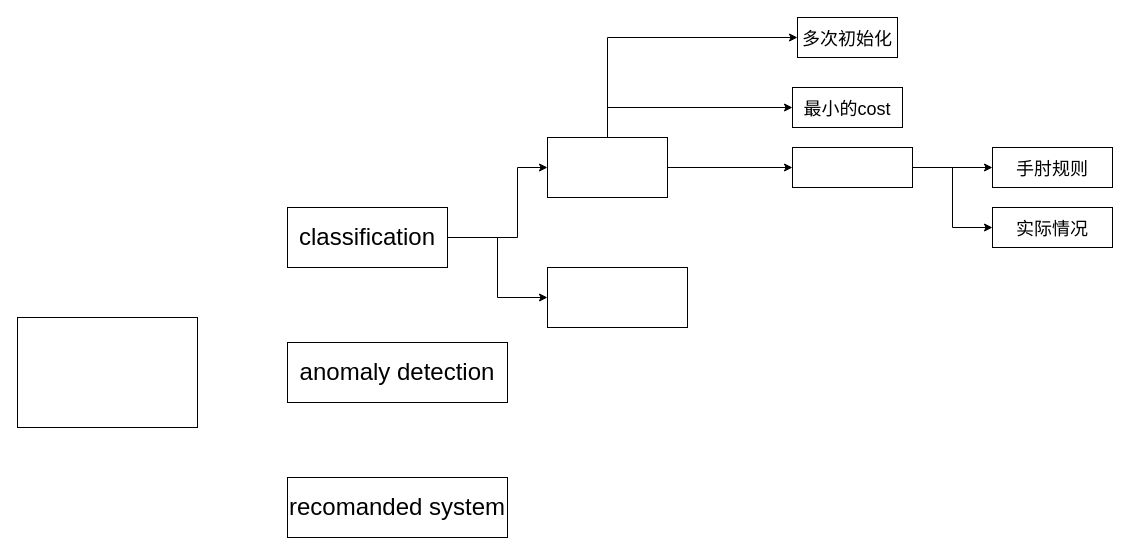
Some shapes in this 1130 by 555 pixel diagram are drawn without their labels. The shapes that lost their labels are listed below. From the top down, each one's centre as x and y in pixels, then its label:
At point 607,167: "k means".
At point 852,167: "选取聚类数量".
At point 617,297: "comparison".
At point 107,372: "non-supervisor learning".
